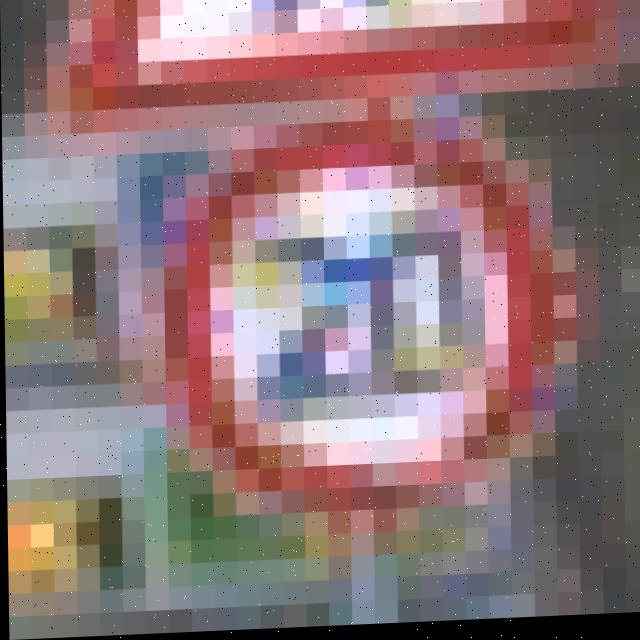speed_limit_20: (160, 103, 586, 534)
